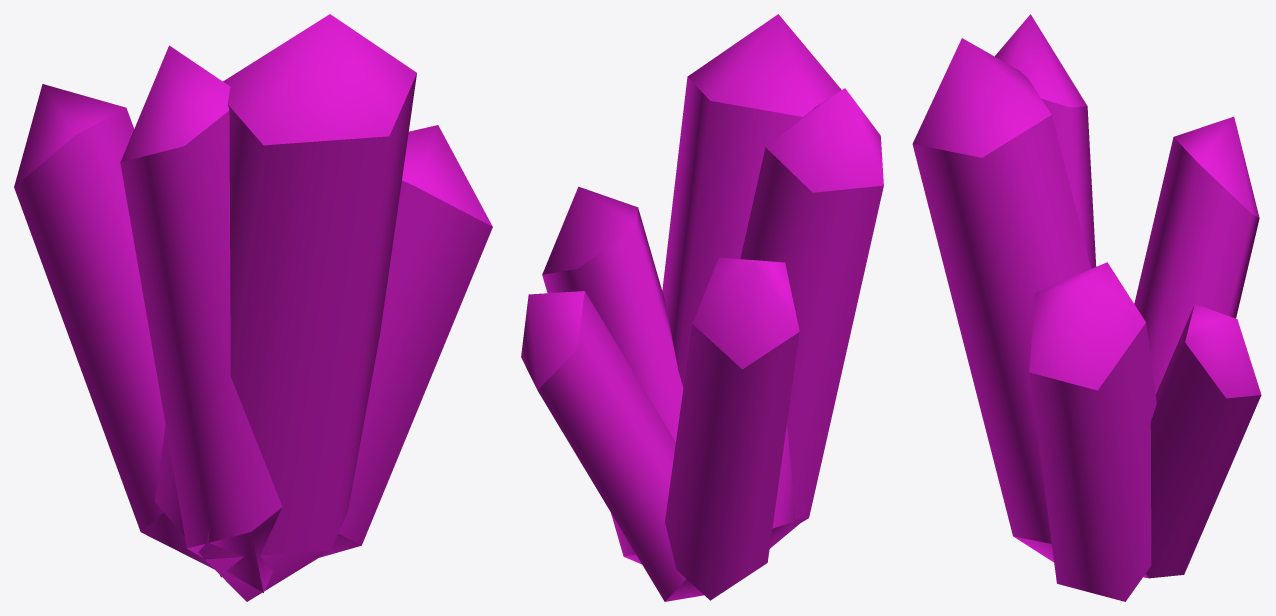
The model's file is Crystal 001.FBX.
The picture shows the model from 3 angles, left to right: view 1: azimuth 30°, elevation 25°; view 2: azimuth 150°, elevation 25°; view 3: azimuth 270°, elevation 25°; orthographic projection. The views are drawn at different scales.
Parts seen in each view (by area): view 1: Crystal 001, Crystal 003, Crystal 005, Crystal 004; view 2: Crystal 005, Crystal 003, Crystal 001, Crystal 006, Crystal 004; view 3: Crystal 001, Crystal 004, Crystal 005, Crystal 006, Crystal 003.
Boxes of the visible parts, x1=… form: Crystal 001: x1=154, y1=14, x2=416, y2=601; Crystal 003: x1=120, y1=45, x2=282, y2=592; Crystal 005: x1=14, y1=84, x2=214, y2=569; Crystal 004: x1=319, y1=125, x2=492, y2=557; Crystal 005: x1=665, y1=257, x2=799, y2=600; Crystal 003: x1=740, y1=88, x2=883, y2=527; Crystal 001: x1=662, y1=14, x2=841, y2=548; Crystal 006: x1=521, y1=291, x2=703, y2=601; Crystal 004: x1=542, y1=186, x2=683, y2=564; Crystal 001: x1=912, y1=38, x2=1091, y2=562; Crystal 004: x1=1029, y1=262, x2=1156, y2=601; Crystal 005: x1=1134, y1=116, x2=1259, y2=394; Crystal 006: x1=1143, y1=304, x2=1261, y2=578; Crystal 003: x1=995, y1=14, x2=1096, y2=268.
Bounding box in the file's own units: 0.1404 × 0.2298 × 0.1306.
